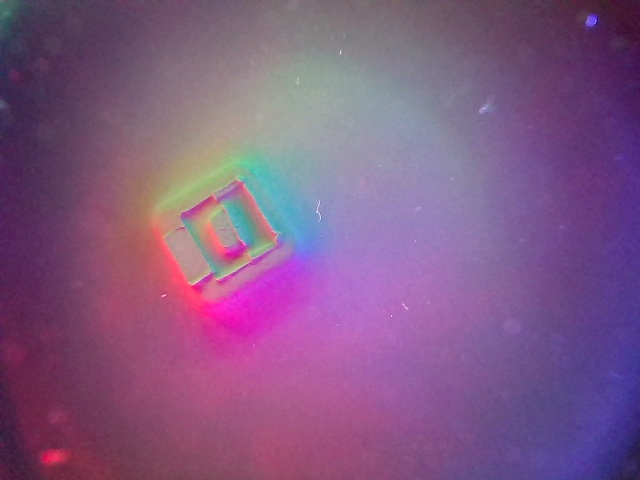contact: (158, 157, 296, 300)
